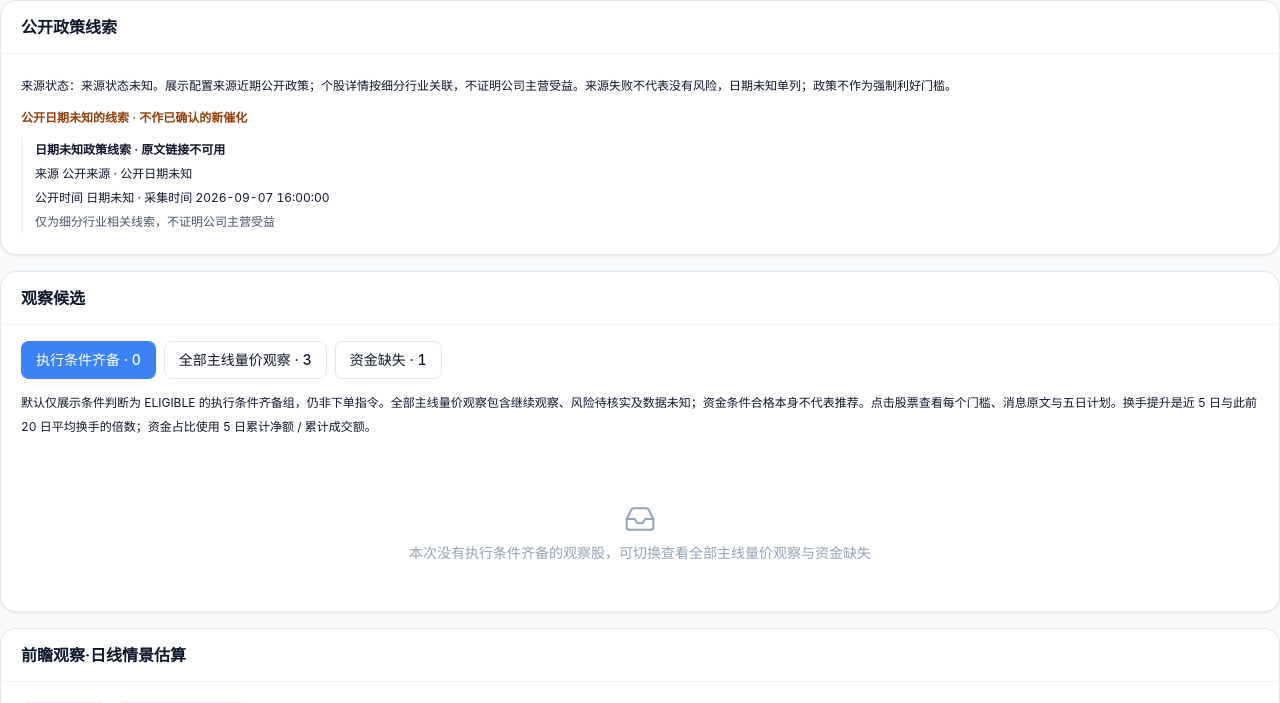
it: FiveDayPage observation workflow › separates undated policies and exposes unknown announcement coverage without unsafe links
This screenshot has width=1280, height=703.
(page scrolled)
What coordinates should you click on to do the following:
click the button "全部主线量价观察 · 3"
I would click on:
 (245, 360)
Its box is [164,341,327,379].
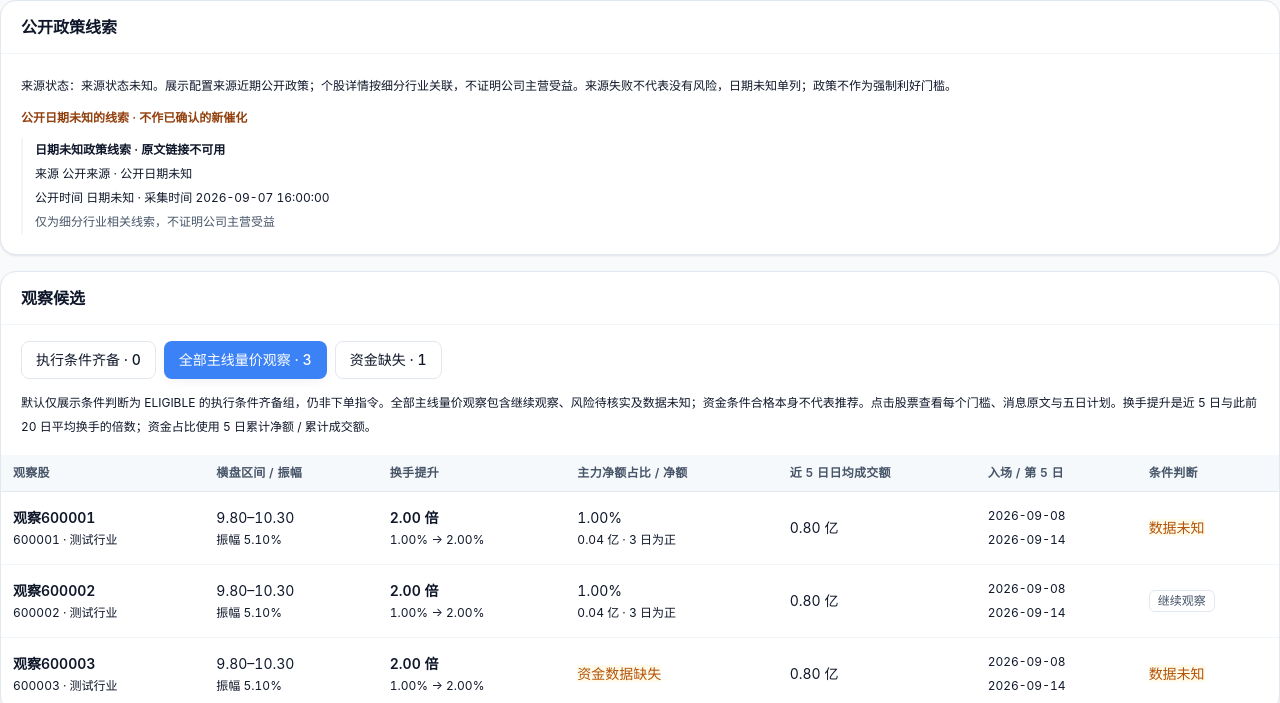
Check: the row that starts with "观察600001" is shown
What coordinates should you click on to do the following:
click the row that starts with "观察600001"
I would click on:
 (640, 528)
Its box is [1,492,1279,564].
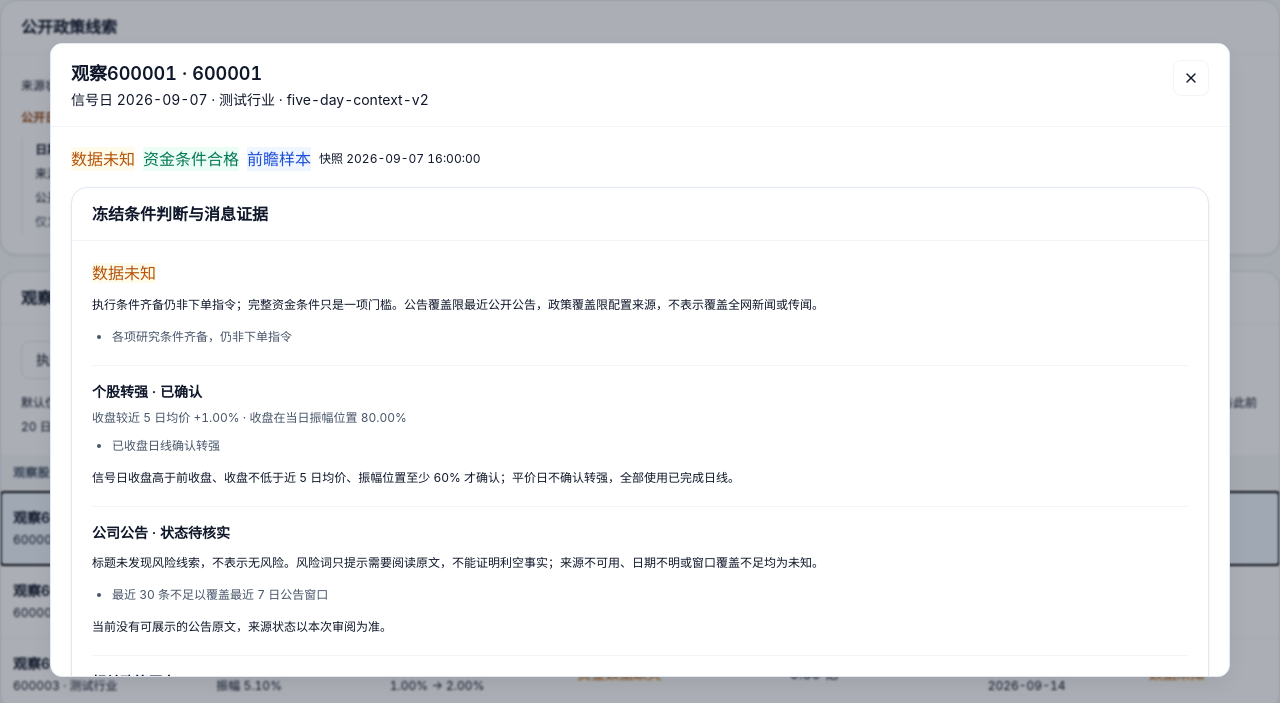
Check: the text "最近 30 条不足以覆盖最近 7 日公告窗口" is shown, box [112,587,328,602]
